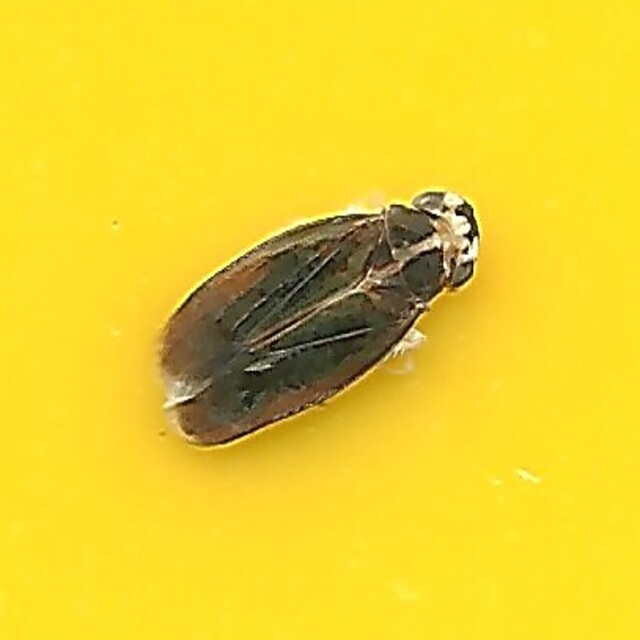Hemiptera: (157, 184, 483, 456)
